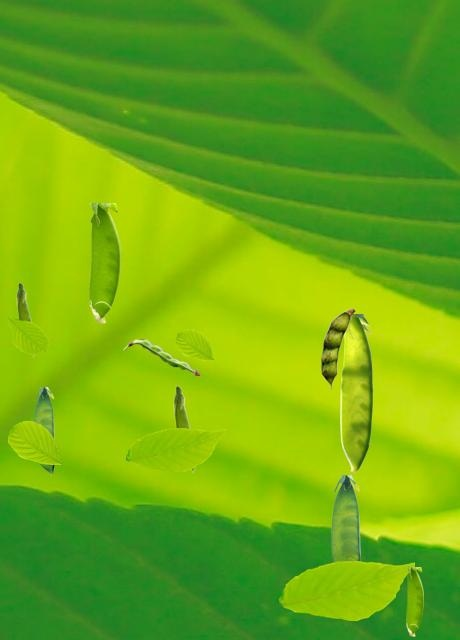pea: (340, 314, 372, 472), (89, 203, 119, 322), (321, 308, 354, 389), (123, 339, 199, 374), (331, 475, 359, 561), (173, 385, 194, 472), (33, 387, 53, 474), (16, 282, 34, 356), (406, 567, 422, 635)
